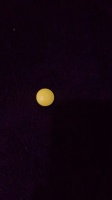Nurofen: (35, 87, 55, 107)
